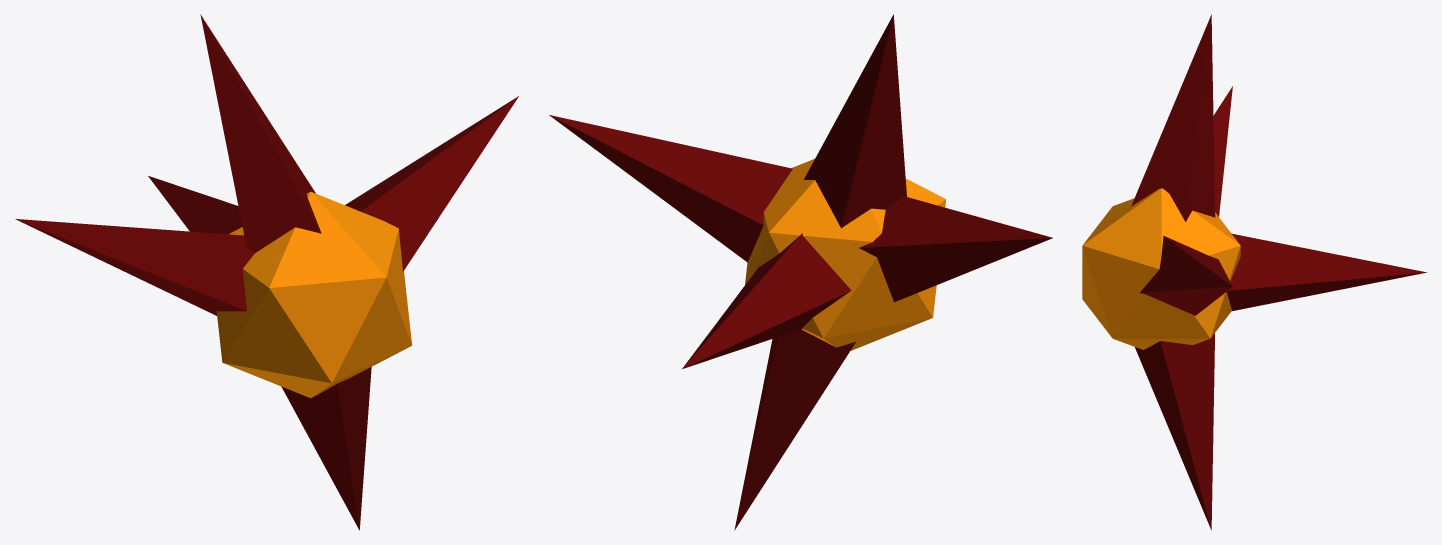
The model's file is conductor_node.glb.
3 renders of one model, left to right at view 1: azimuth 30°, elevation 25°; view 2: azimuth 150°, elevation 25°; view 3: azimuth 270°, elevation 25°, orthographic. The views are drawn at different scales.
Visible parts, largest first — view 1: conductor_node; view 2: conductor_node; view 3: conductor_node.
Part boxes in pixels (<box>): conductor_node: <box>15,14,518,530</box>; conductor_node: <box>549,14,1052,530</box>; conductor_node: <box>1082,14,1427,530</box>.
Size of the model in its own units: 7.16 by 7.53 by 5.19.
